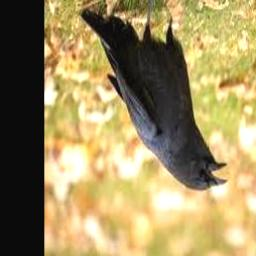Crow: (80, 0, 228, 192)
